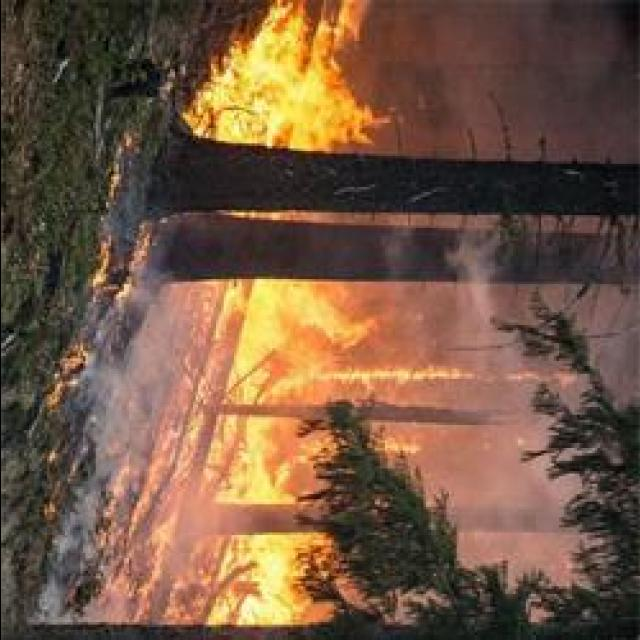fire: (220, 54, 332, 141), (253, 282, 371, 352), (252, 542, 292, 624)
smoke: (108, 314, 188, 439), (444, 232, 500, 312)
